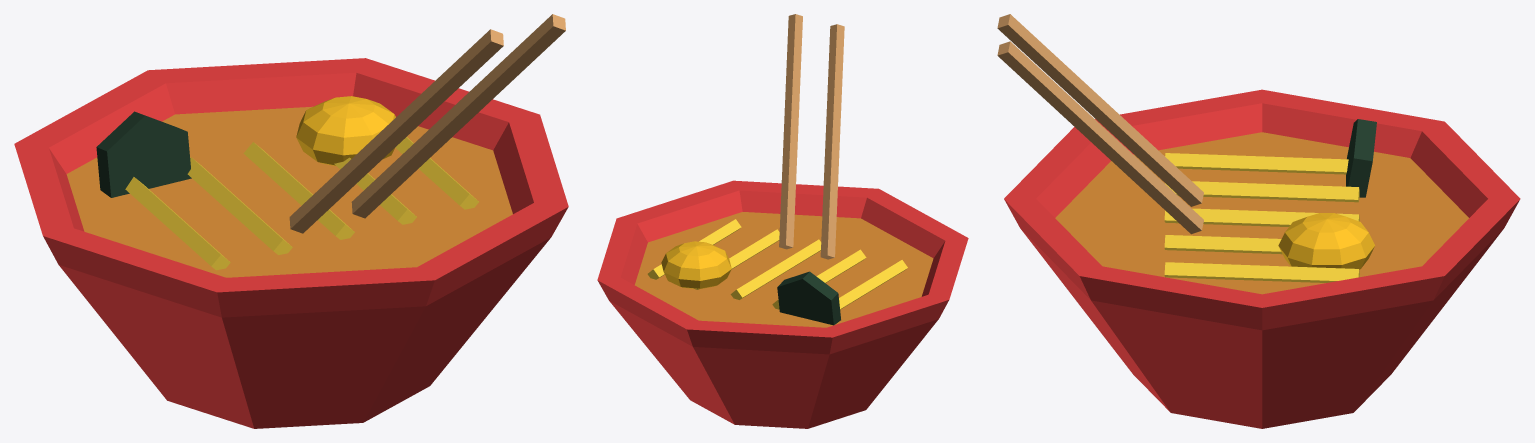
Rendered from RamenBowl.fbx.
The picture shows the model from 3 angles, left to right: view 1: azimuth 30°, elevation 25°; view 2: azimuth 150°, elevation 25°; view 3: azimuth 270°, elevation 25°; orthographic projection. The views are drawn at different scales.
Visible parts, largest first — view 1: RamenBowl; view 2: RamenBowl; view 3: RamenBowl.
Part boxes in pixels (<box>): RamenBowl: <box>14,14,568,428</box>; RamenBowl: <box>597,14,968,428</box>; RamenBowl: <box>997,14,1520,428</box>.
Bounding box in the file's own units: 1.6 × 1.32 × 1.62.
1 material, 1 textured.
